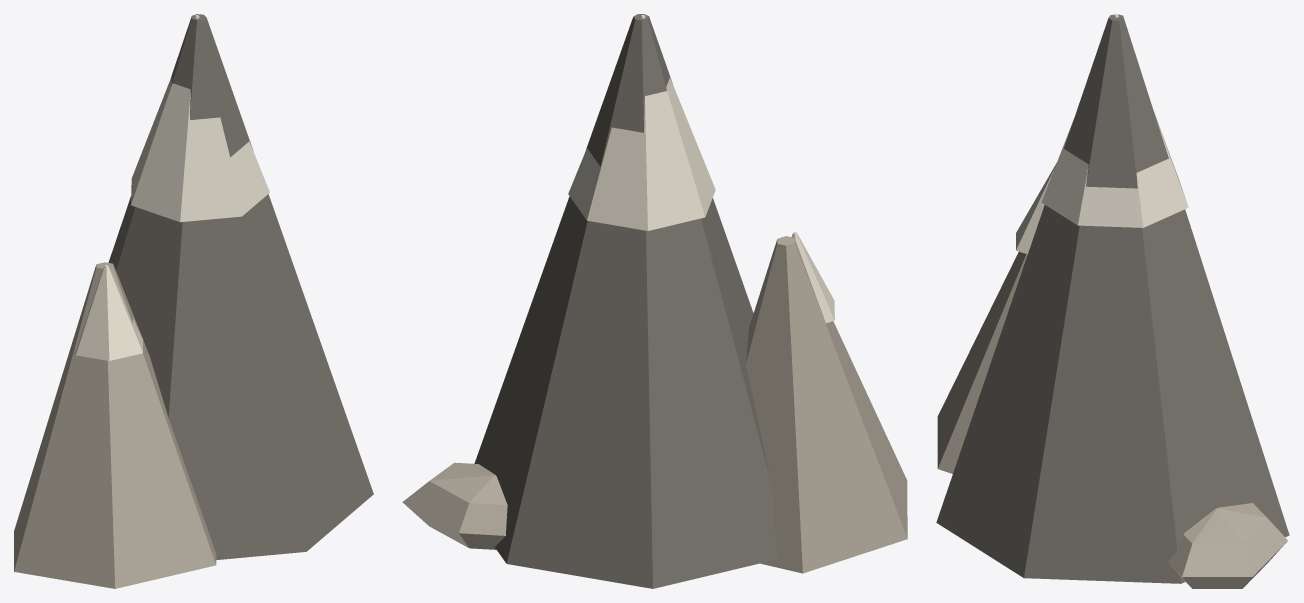
File: peak_tall.fbx
3 renders of one model, left to right at view 1: azimuth 30°, elevation 25°; view 2: azimuth 150°, elevation 25°; view 3: azimuth 270°, elevation 25°, orthographic. The views are drawn at different scales.
Parts seen in each view (by area): view 1: Prop; view 2: Prop; view 3: Prop.
Part boxes in pixels (x1=…): Prop: x1=14, y1=14, x2=373, y2=588; Prop: x1=402, y1=14, x2=907, y2=588; Prop: x1=936, y1=14, x2=1289, y2=588.
Size of the model in its own units: 4.56 by 3.5 by 5.57.
